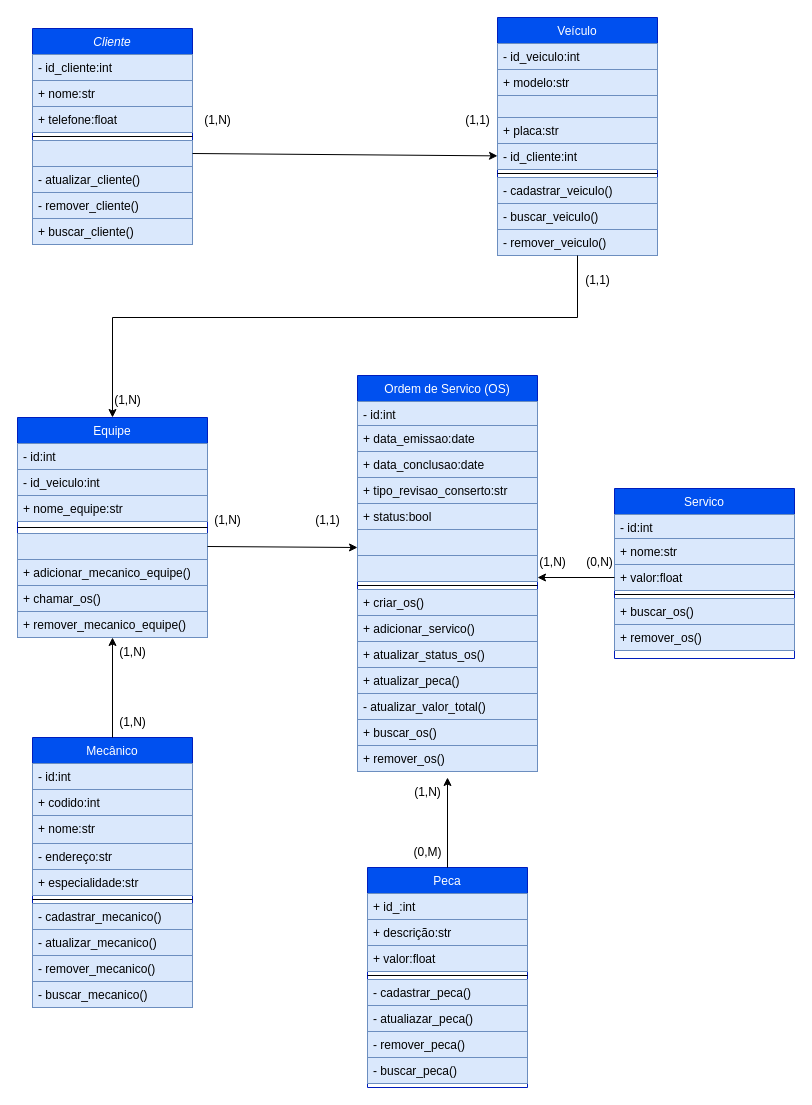
This 812x1105 diagram has some shape labels left out. Each missing label, with the centre of its shape:
"+ ano:int" goes at point (577, 106).
"+ criar_equipe()" goes at point (112, 546).
"+ valor_total:float" goes at point (447, 542).
"- cadastrar_cliente()" goes at point (112, 153).
"- id_equipe:int" goes at point (447, 568).
